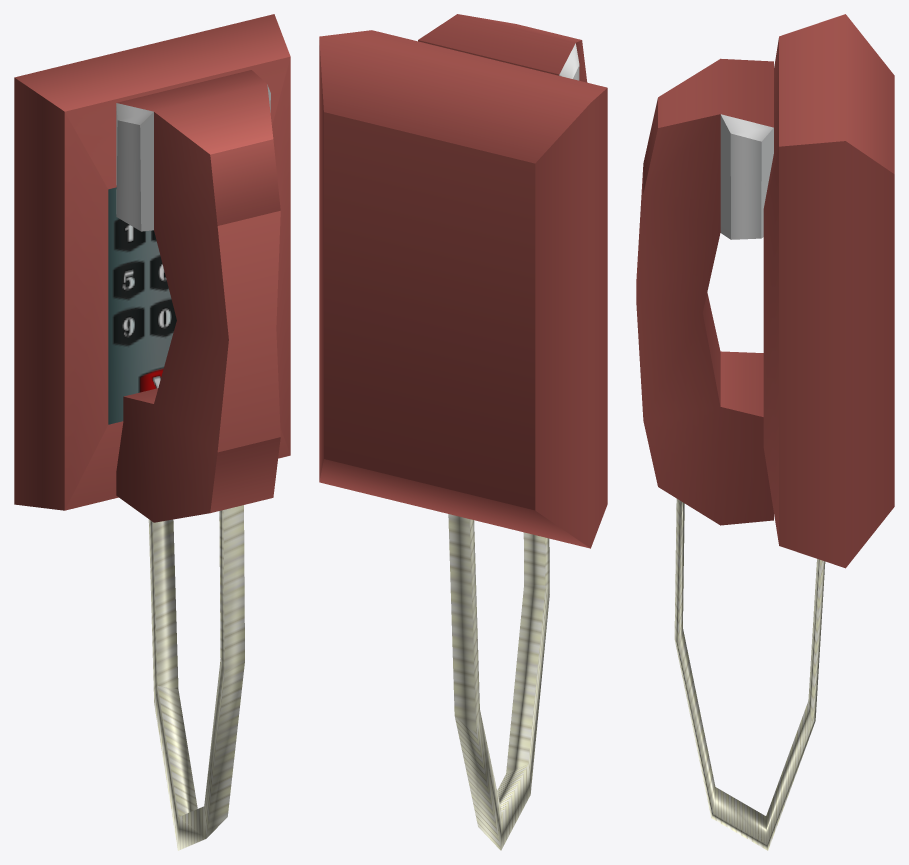
File: Wall_Phone_C.FBX
The picture shows the model from 3 angles, left to right: view 1: azimuth 30°, elevation 25°; view 2: azimuth 150°, elevation 25°; view 3: azimuth 270°, elevation 25°; orthographic projection. The views are drawn at different scales.
Visible parts, largest first — view 1: Wall_Phone; view 2: Wall_Phone; view 3: Wall_Phone.
Boxes of the visible parts, x1,y1,x2,y2 form: Wall_Phone: [14, 14, 290, 850]; Wall_Phone: [319, 14, 607, 850]; Wall_Phone: [636, 14, 894, 850].
Bounding box in the file's own units: 57.35 × 163 × 49.28.
